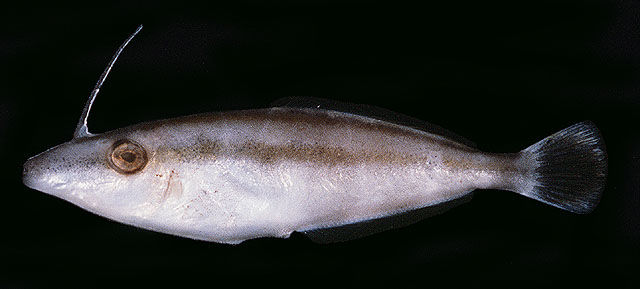fish: (22, 25, 607, 245)
